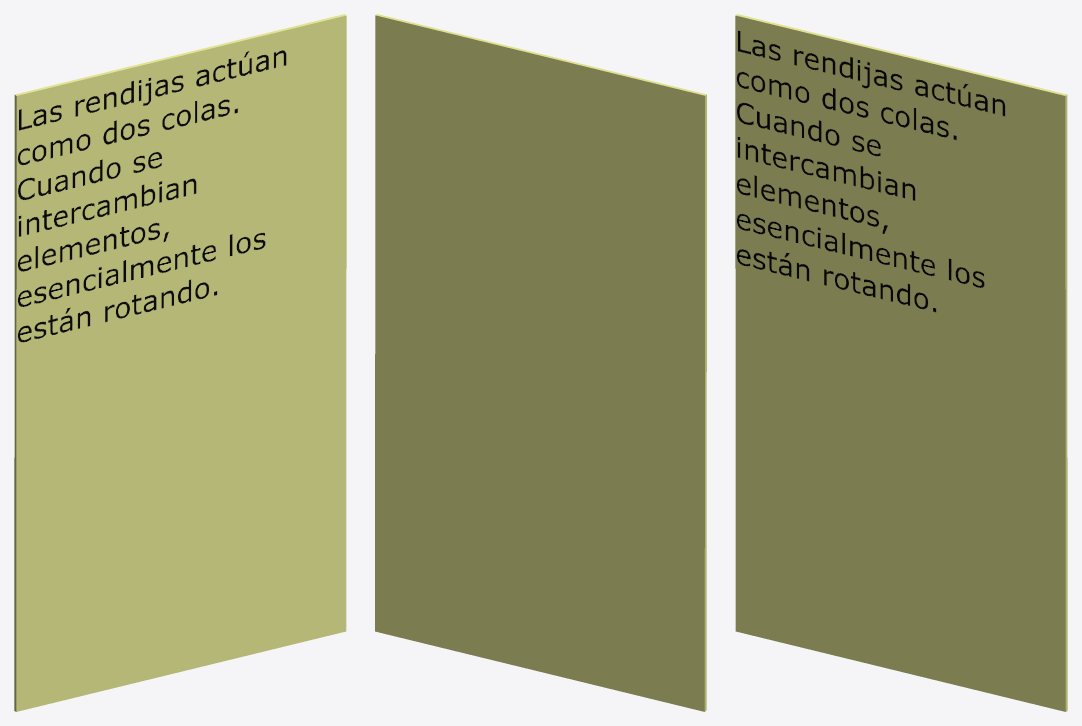
The model's file is Pista2.fbx.
3 views of the same model, side by side, from view 1: azimuth 30°, elevation 25°; view 2: azimuth 150°, elevation 25°; view 3: azimuth 330°, elevation 25° (orthographic).
Visible parts, largest first — view 1: Cylinder; view 2: Cylinder; view 3: Cylinder.
Part boxes in pixels (box(x1,y1,x2,y2)): Cylinder: box(14, 14, 346, 711); Cylinder: box(375, 14, 706, 711); Cylinder: box(735, 14, 1067, 711).
Bounding box in the file's own units: 9 × 16.07 × 0.1023.
1 material, 1 textured.
